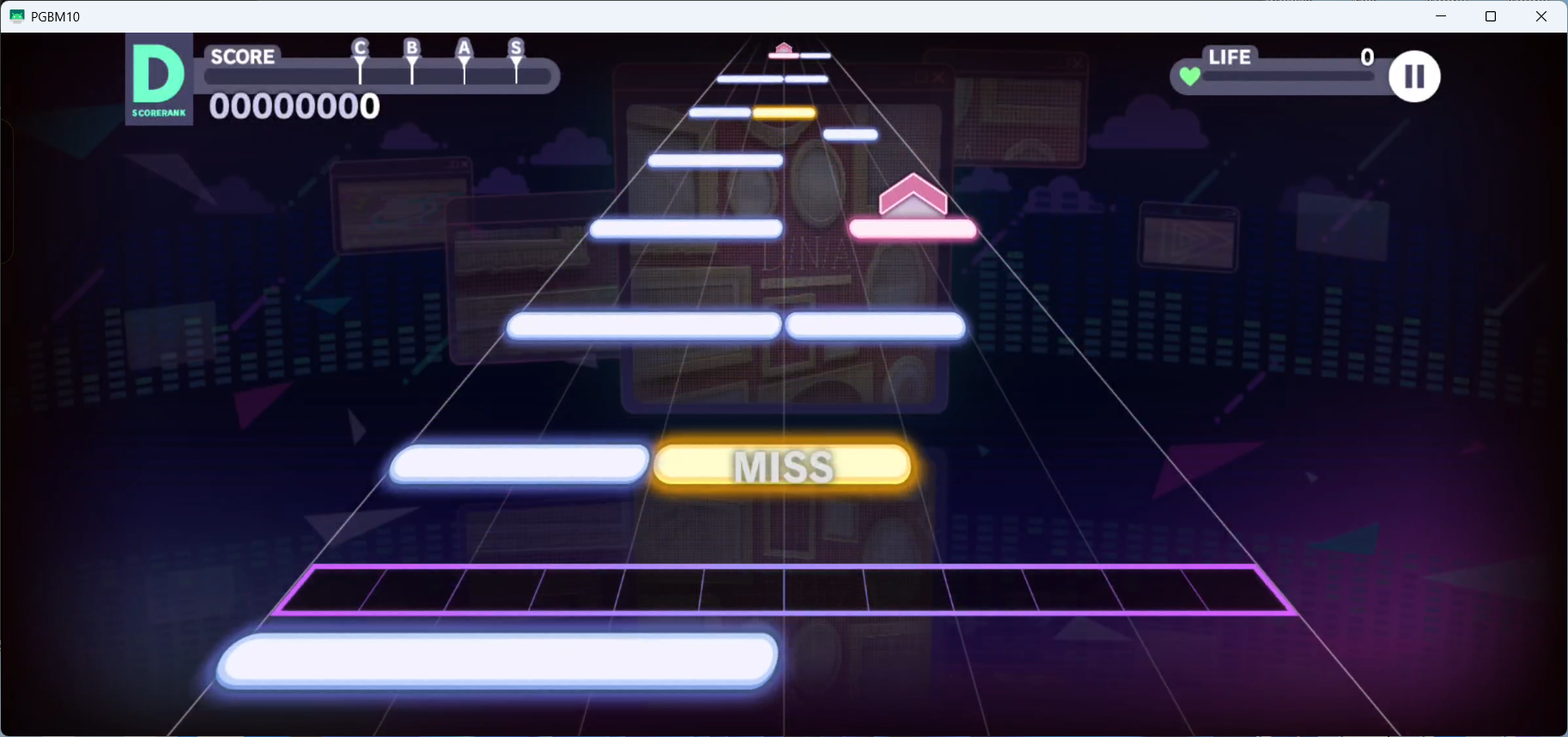flick: (879, 170, 947, 218), (775, 42, 793, 53)
tap: (216, 635, 777, 692), (389, 445, 650, 486), (653, 444, 912, 483), (507, 312, 781, 339), (786, 312, 967, 340), (590, 220, 782, 240), (849, 219, 977, 239), (648, 154, 783, 167), (753, 106, 814, 118), (689, 107, 751, 118), (823, 130, 878, 140), (716, 75, 783, 82), (784, 75, 828, 82), (799, 53, 831, 58), (768, 53, 799, 58)
